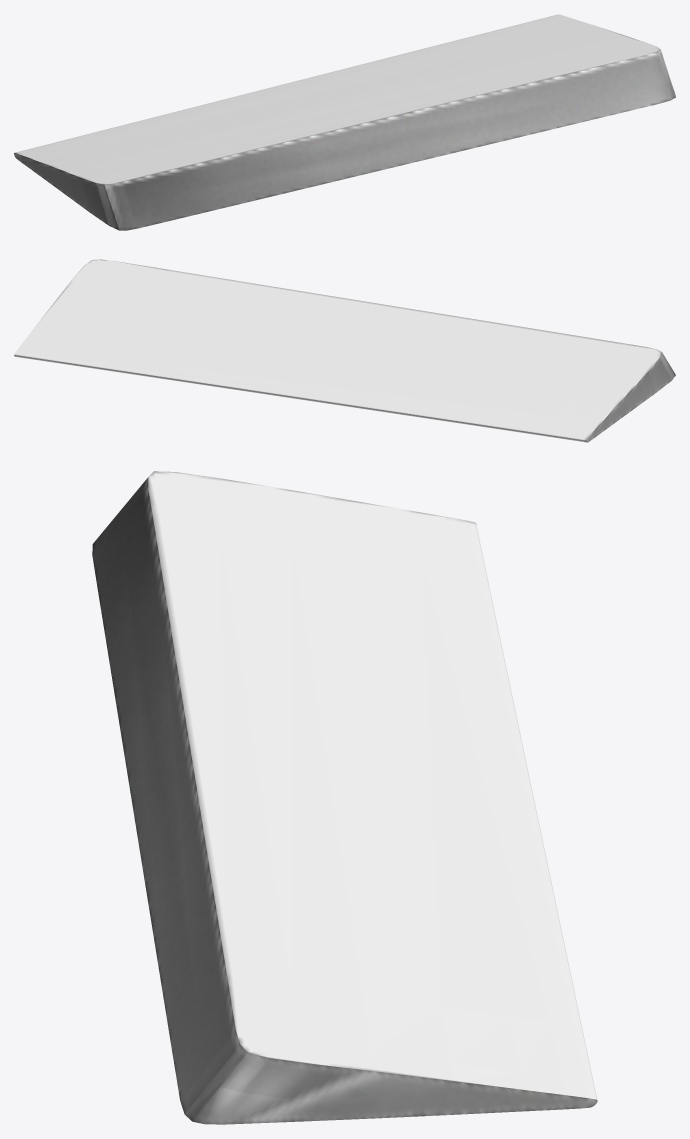
File: rightWing.obj
3 views of the same model, one above another, from view 1: azimuth 30°, elevation 25°; view 2: azimuth 150°, elevation 25°; view 3: azimuth 270°, elevation 25° (orthographic). The views are drawn at different scales.
Parts seen in each view (by area): view 1: Cessna172; view 2: Cessna172; view 3: Cessna172.
Boxes of the visible parts, bbox=[...] form: Cessna172: bbox=[14, 14, 675, 230]; Cessna172: bbox=[14, 259, 675, 442]; Cessna172: bbox=[92, 471, 597, 1124].
Size of the model in its own units: 5.22 by 0.5292 by 2.06.
Materials: 1 (1 with a texture image).
